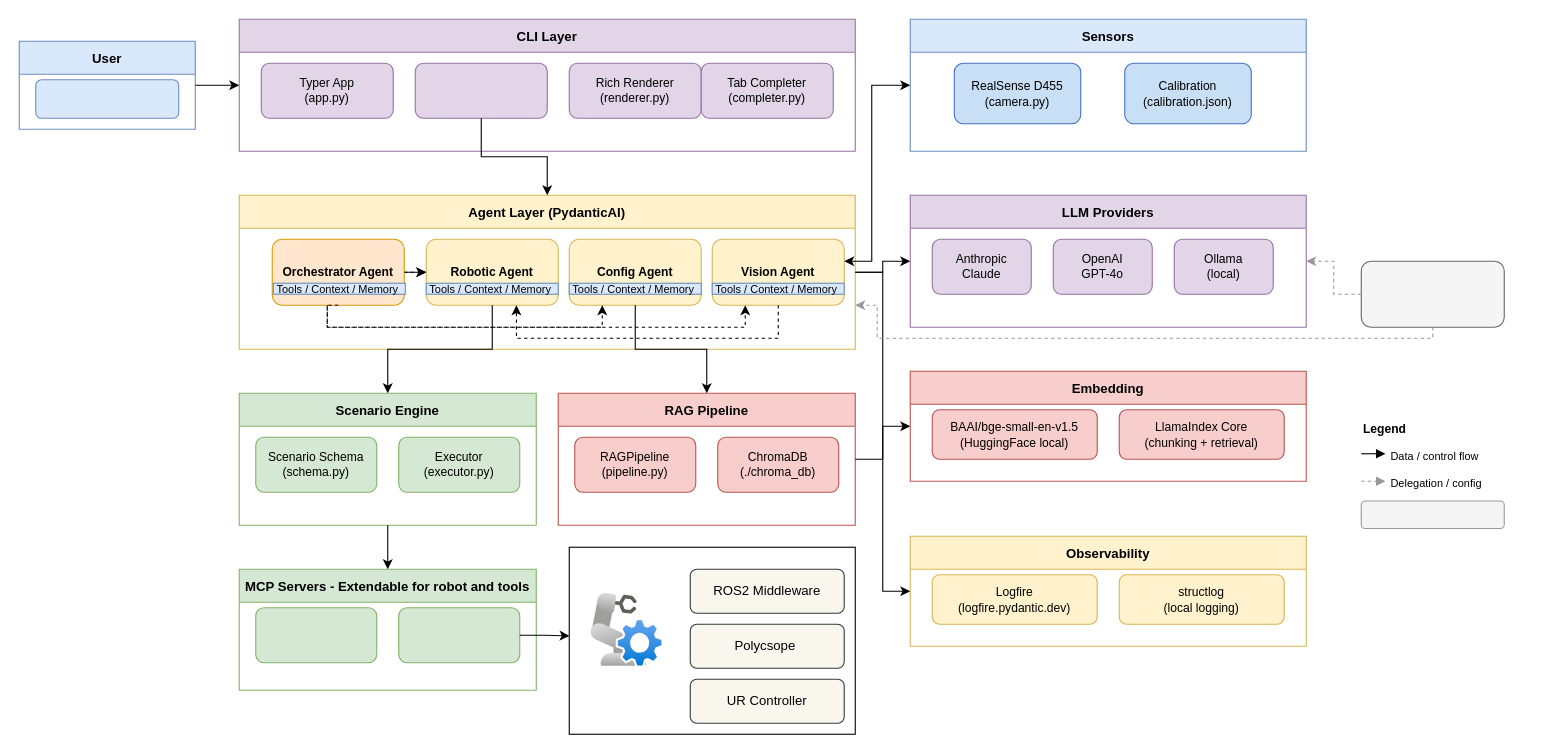
Image size: 1562x754. Some labels were removed from this diagram. The centre of each missing label's shape, as x and y in pixels:
"cobot.yaml (CobotConfig)" goes at point (1432, 293).
"Future phase" goes at point (1432, 514).
"Interactive REPL (repl.py)" goes at point (480, 90).
"Robotiq Gripper (server.py)" goes at point (459, 635).
"Terminal / IDE" goes at point (107, 98).
"UR3e Arm (ur3e_arm_mcp.py)" goes at point (316, 635).
